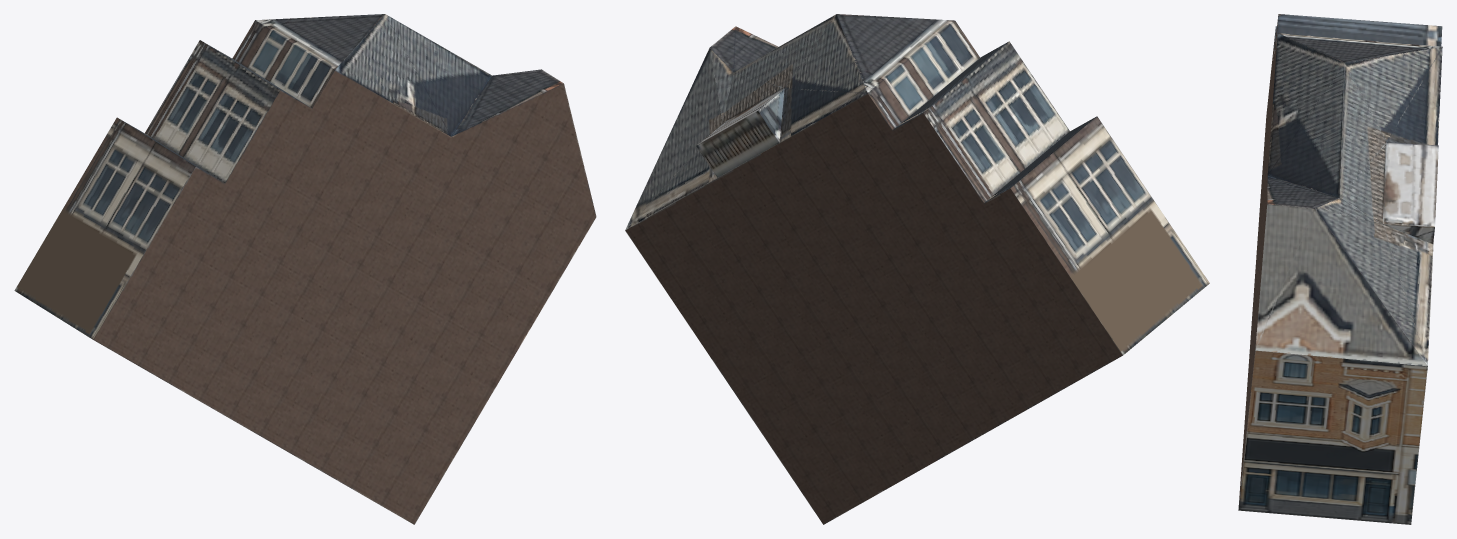
The picture shows the model from 3 angles, left to right: view 1: azimuth 30°, elevation 25°; view 2: azimuth 150°, elevation 25°; view 3: azimuth 270°, elevation 25°; orthographic projection.
Visible parts, largest first — view 1: BAG_0599100000760368 (×4); view 2: BAG_0599100000760368 (×5); view 3: BAG_0599100000760368 (×6).
Boxes of the visible parts, <box> form: BAG_0599100000760368 (×4): <box>14,14,596,524</box>; BAG_0599100000760368 (×5): <box>625,14,1209,524</box>; BAG_0599100000760368 (×6): <box>1238,14,1442,524</box>.
Bounding box in the file's own units: 18.79 × 17.18 × 6.74.
Materials: 1 (1 with a texture image).
